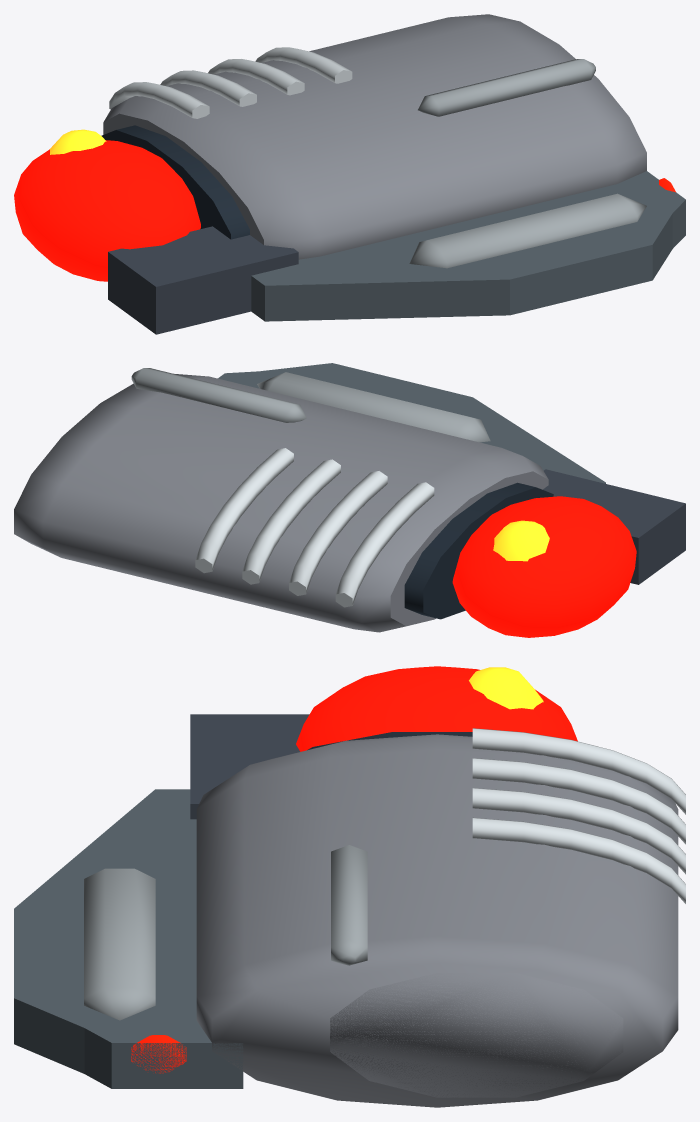
The model's file is newshv-44.glb.
The picture shows the model from 3 angles, top to bottom: view 1: azimuth 30°, elevation 25°; view 2: azimuth 150°, elevation 25°; view 3: azimuth 270°, elevation 25°; orthographic projection. The views are drawn at different scales.
Parts seen in each view (by area): view 1: newshv-44; view 2: newshv-44; view 3: newshv-44.
Boxes of the visible parts, x1=… form: newshv-44: x1=14, y1=14, x2=685, y2=334; newshv-44: x1=14, y1=363, x2=685, y2=637; newshv-44: x1=14, y1=666, x2=685, y2=1107.
Size of the model in its own units: 1.85 by 0.4349 by 1.59.
